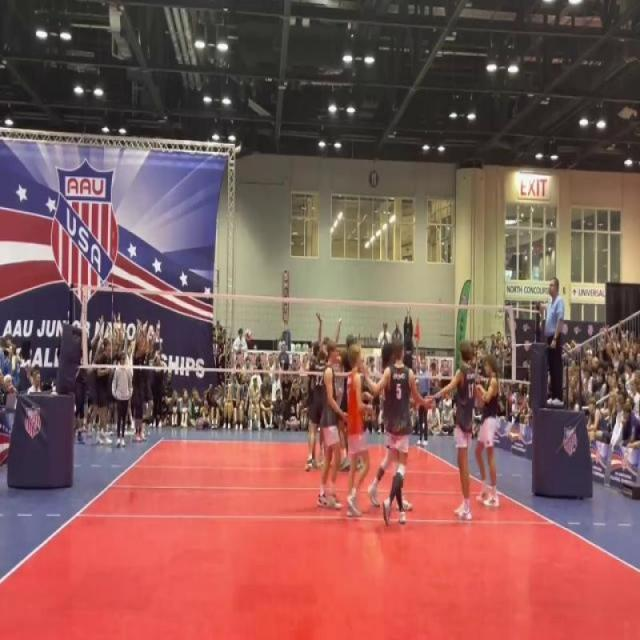volleyball: (246, 332, 250, 342)
